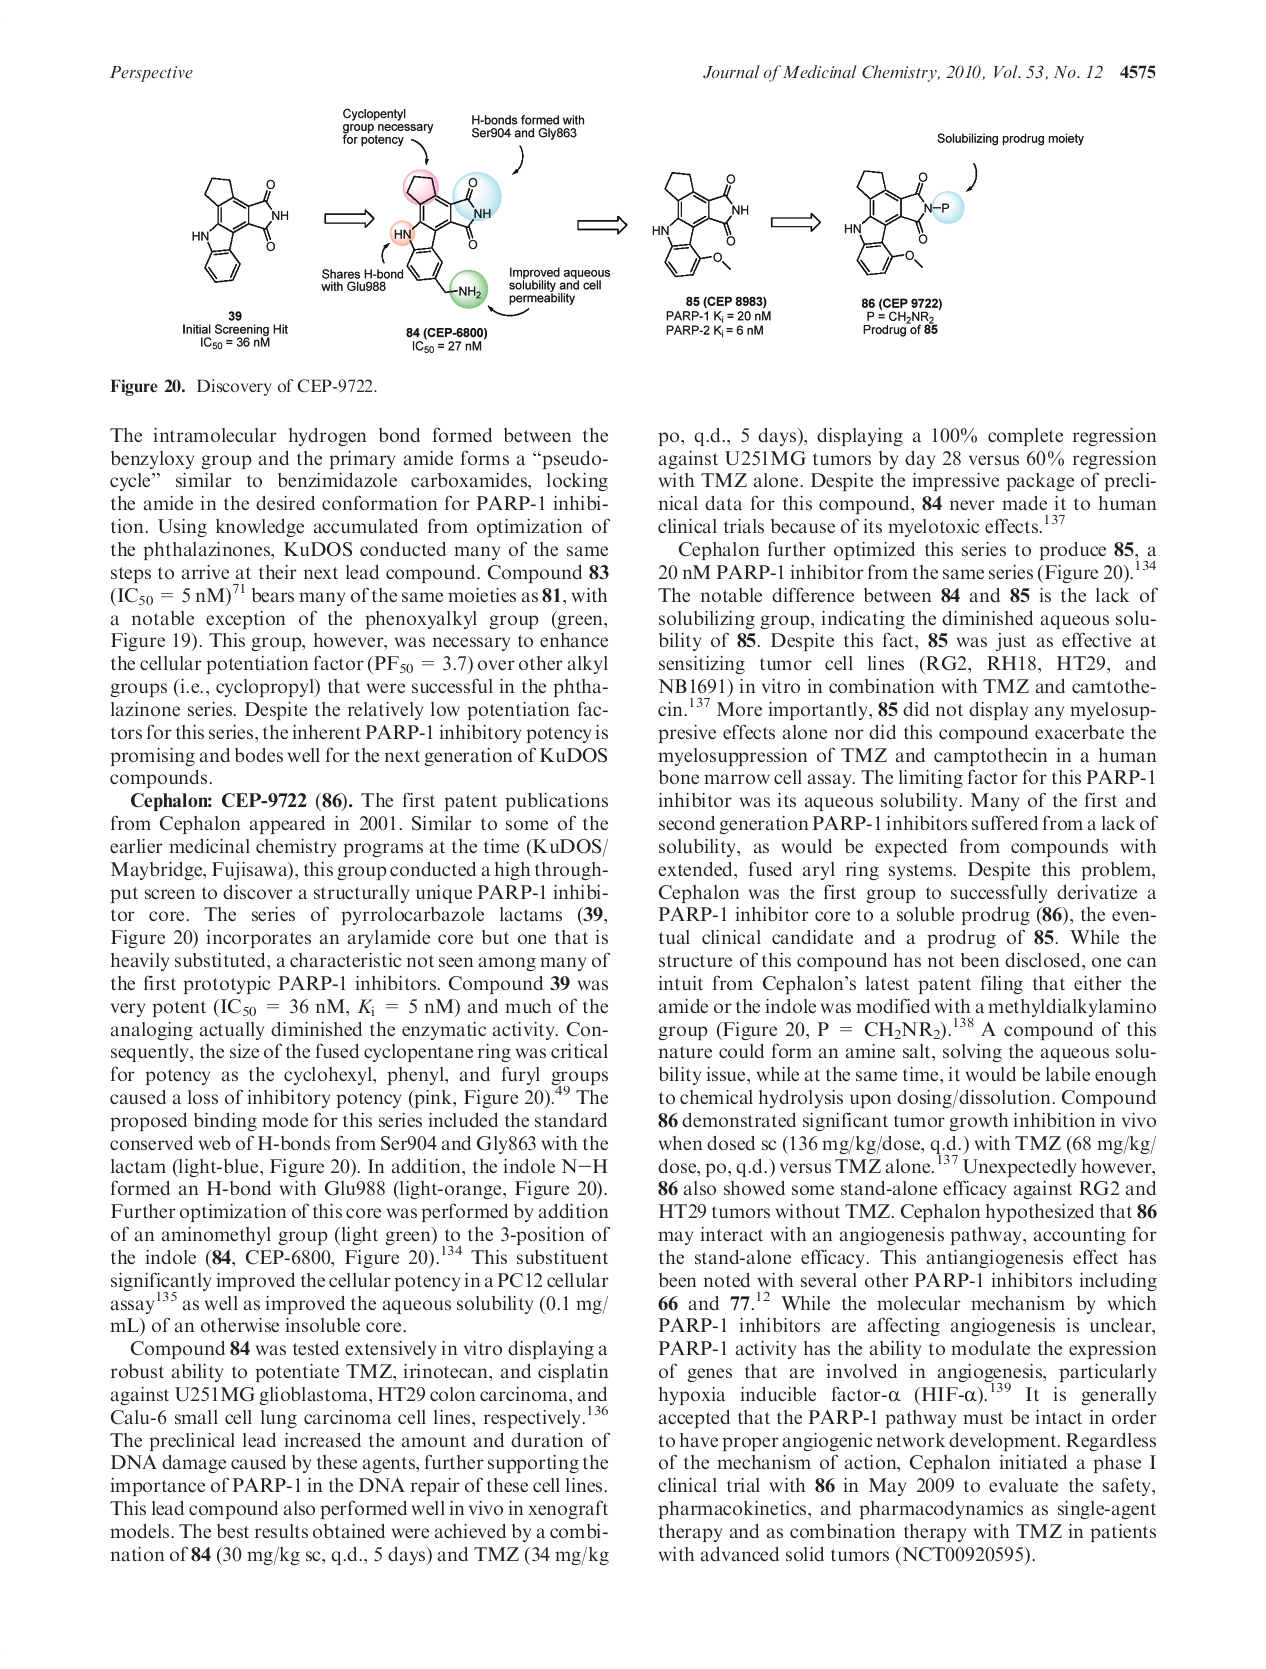exist_molecular: (378, 172, 496, 301), (646, 165, 754, 281), (844, 165, 949, 281), (190, 170, 290, 282)
